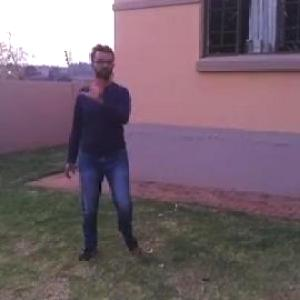follow_hand: (76, 74, 106, 99)
